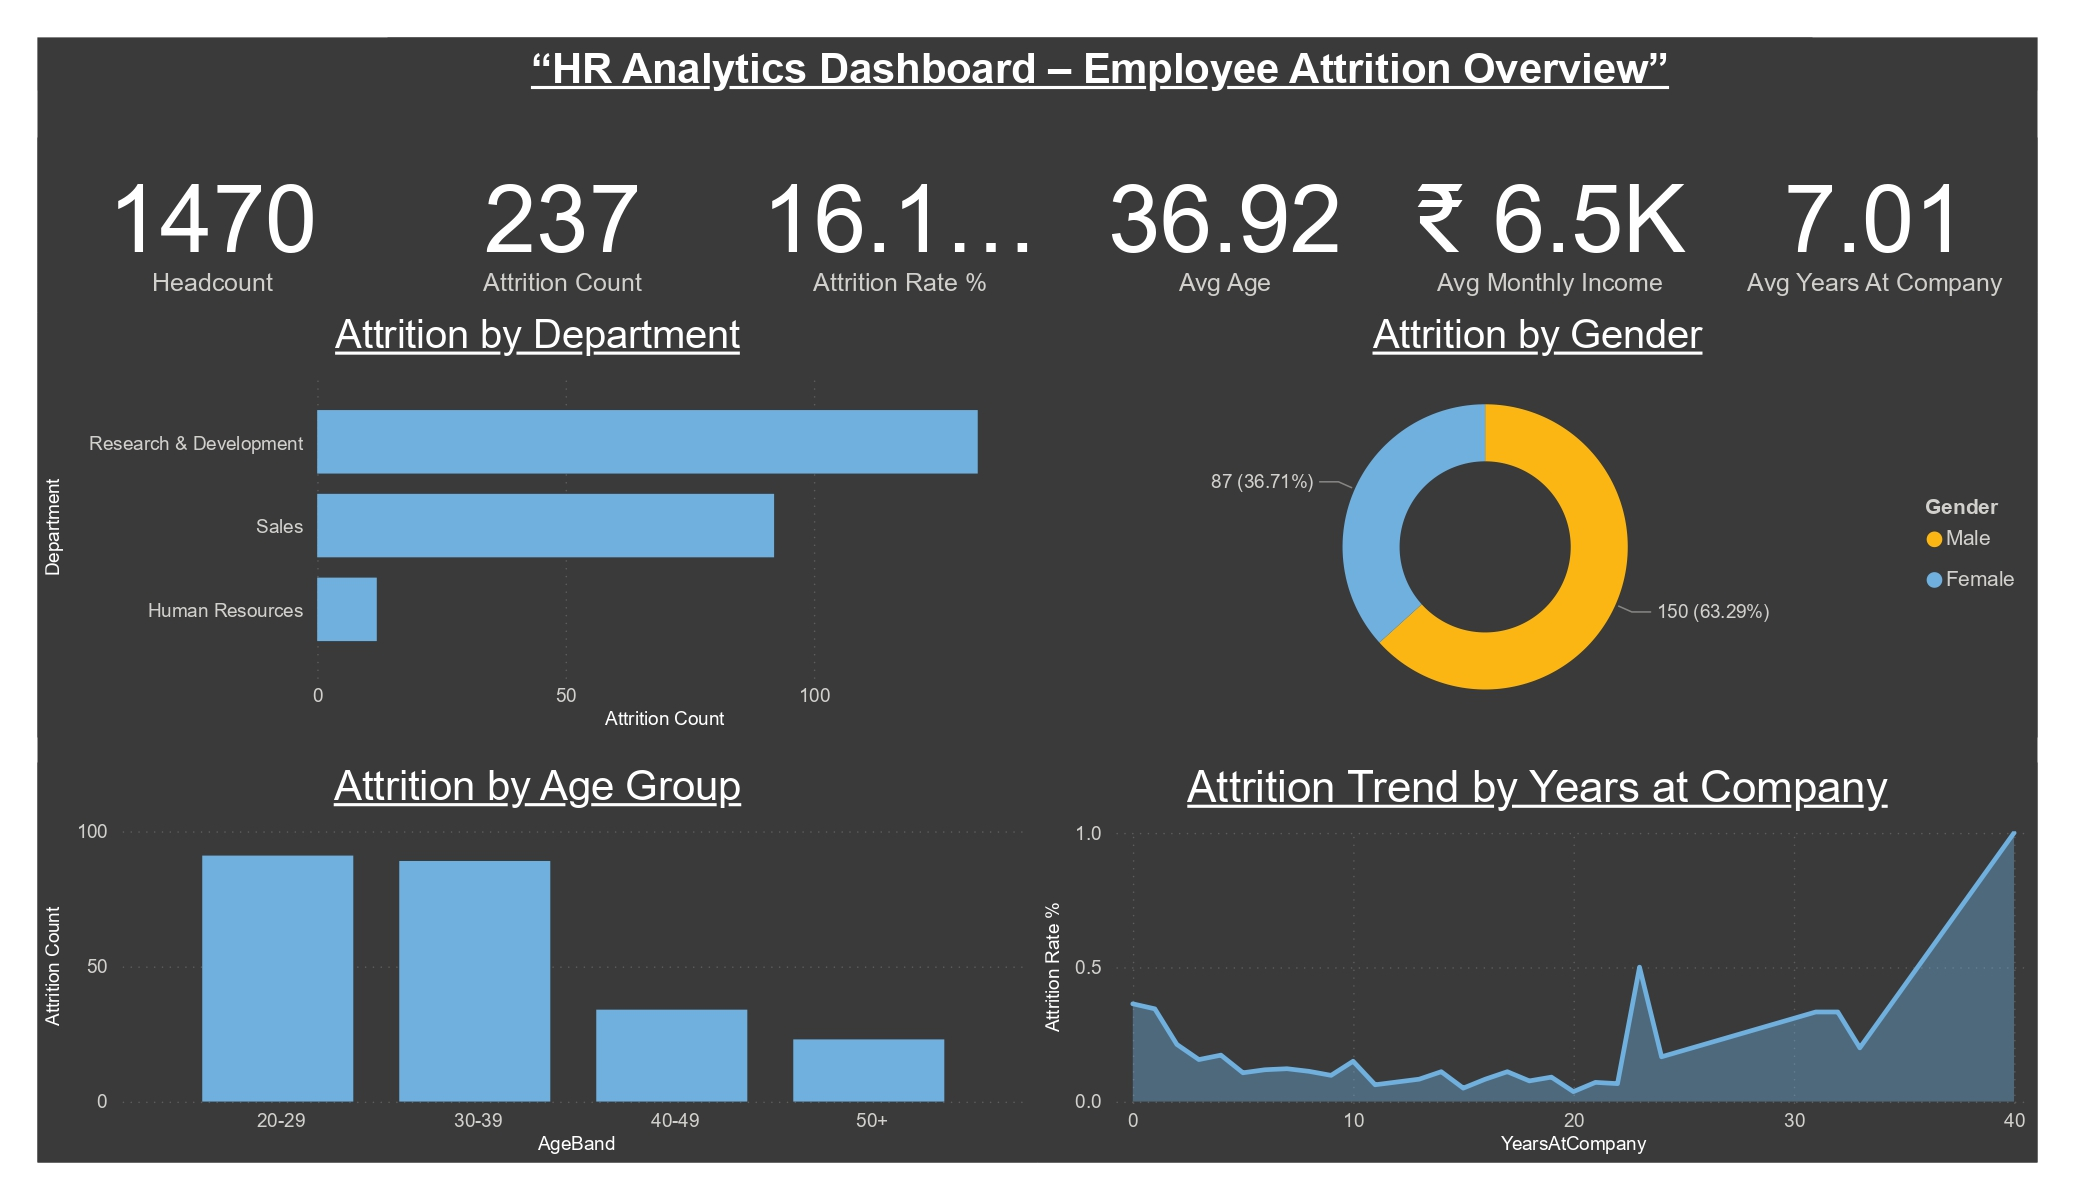

This screenshot's page, from the dashboard's own definition file:
{"tool":"powerbi","page":{"name":"Page 1","canvas":[1280,720],"ordinal":0},"visuals":[{"type":"card","fields":{"Values":["New_Measure.Headcount"]},"box":[0,64,224,112],"z":0},{"type":"card","fields":{"Values":["New_Measure.Attrition Count"]},"box":[224,64,224,112],"z":1000},{"type":"card","fields":{"Values":["New_Measure.Attrition Rate %"]},"box":[448,64,208,112],"z":2000},{"type":"card","fields":{"Values":["New_Measure.Avg Age"]},"box":[656,64,208,112],"z":3000},{"type":"card","fields":{"Values":["New_Measure.Avg Monthly Income"]},"box":[864,64,208,112],"z":4000},{"type":"card","fields":{"Values":["New_Measure.Avg Years At Company"]},"box":[1072,64,208,112],"z":5000},{"type":"clusteredBarChart","title":"Attrition by Department","fields":{"Y":["New_Measure.Attrition Count"],"Category":["HR Employee Attrition.Department"]},"box":[0,176,640,272],"z":6000},{"type":"donutChart","title":"Attrition by Gender","fields":{"Category":["HR Employee Attrition.Gender"],"Y":["New_Measure.Attrition Count"]},"box":[640,176,640,272],"z":7000},{"type":"columnChart","title":"Attrition by Age Group","fields":{"Y":["New_Measure.Attrition Count"],"Category":["HR Employee Attrition.AgeBand"]},"box":[0,464,640,256],"z":8000},{"type":"areaChart","title":"Attrition Trend by Years at Company","fields":{"Y":["New_Measure.Attrition Rate %"],"Category":["HR Employee Attrition.YearsAtCompany"]},"box":[640,464,640,256],"z":9000},{"type":"textbox","box":[224,0,912,64],"z":10000}]}

Visuals, with their boxes on the page's 1280x720 design canvas (x1, y1, x2, y2). These are canvas units, not pixel positions in the 2075x1200 screenshot, which may show the page scaled, cropped or inside an application window:
card - New_Measure.Headcount: pyautogui.locateOnScreen(0, 64, 224, 176)
card - New_Measure.Attrition Count: pyautogui.locateOnScreen(224, 64, 448, 176)
card - New_Measure.Attrition Rate %: pyautogui.locateOnScreen(448, 64, 656, 176)
card - New_Measure.Avg Age: pyautogui.locateOnScreen(656, 64, 864, 176)
card - New_Measure.Avg Monthly Income: pyautogui.locateOnScreen(864, 64, 1072, 176)
card - New_Measure.Avg Years At Company: pyautogui.locateOnScreen(1072, 64, 1280, 176)
"Attrition by Department" clusteredBarChart: pyautogui.locateOnScreen(0, 176, 640, 448)
"Attrition by Gender" donutChart: pyautogui.locateOnScreen(640, 176, 1280, 448)
"Attrition by Age Group" columnChart: pyautogui.locateOnScreen(0, 464, 640, 720)
"Attrition Trend by Years at Company" areaChart: pyautogui.locateOnScreen(640, 464, 1280, 720)
textbox: pyautogui.locateOnScreen(224, 0, 1136, 64)
